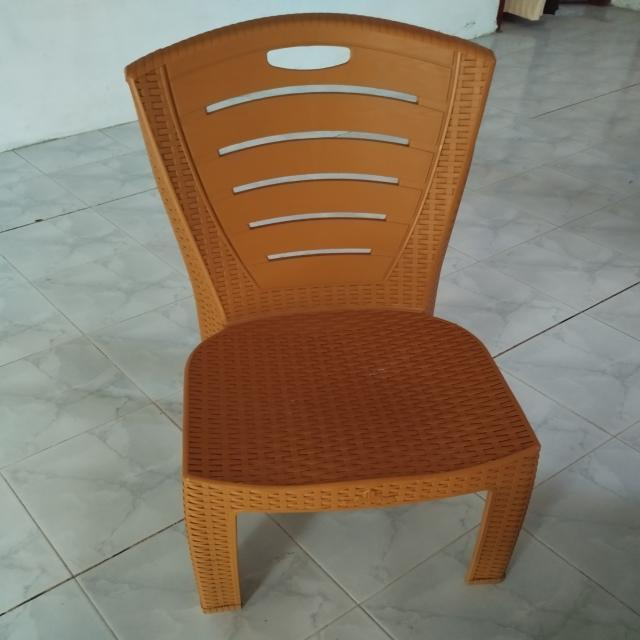chair: (123, 10, 542, 612)
